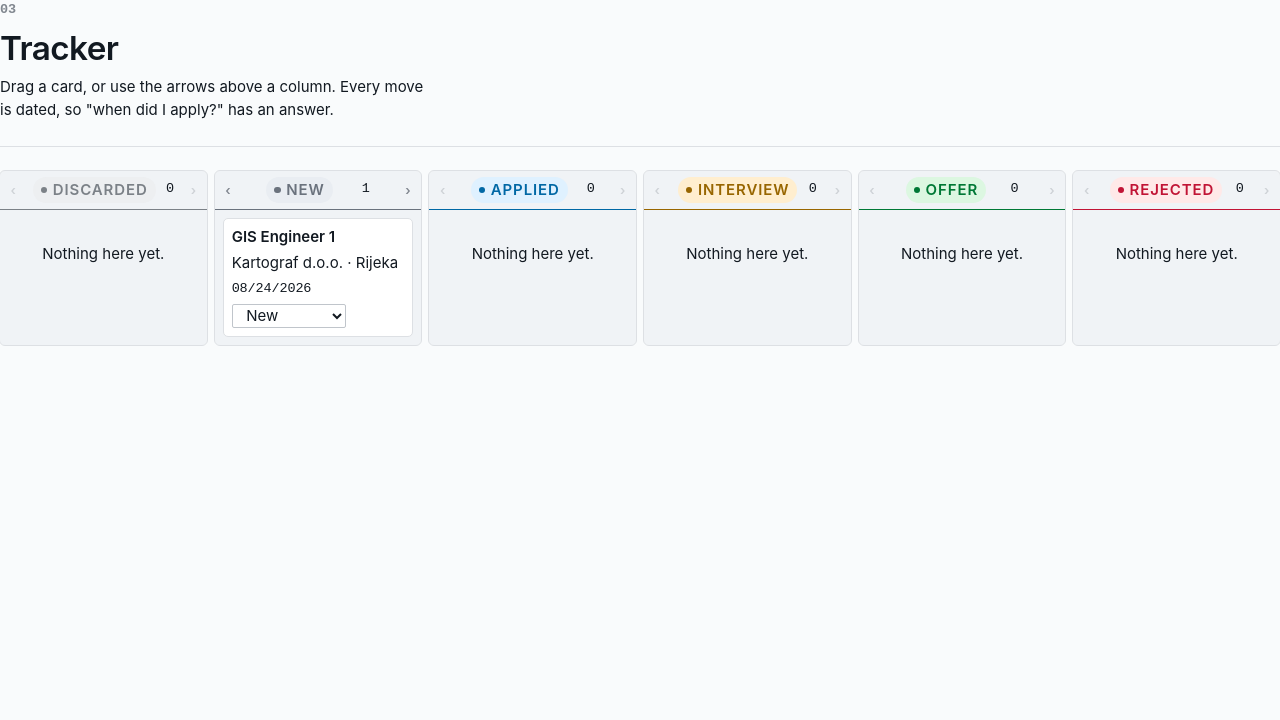
Scenario: the board › opens the details from anywhere on the card, not only the title
Expected: the button "GIS Engineer 1" is shown, [232, 227, 404, 247]
Click the text "Kartograf d.o.o. · Rijeka" at {"x": 318, "y": 263}, box [232, 252, 404, 275]
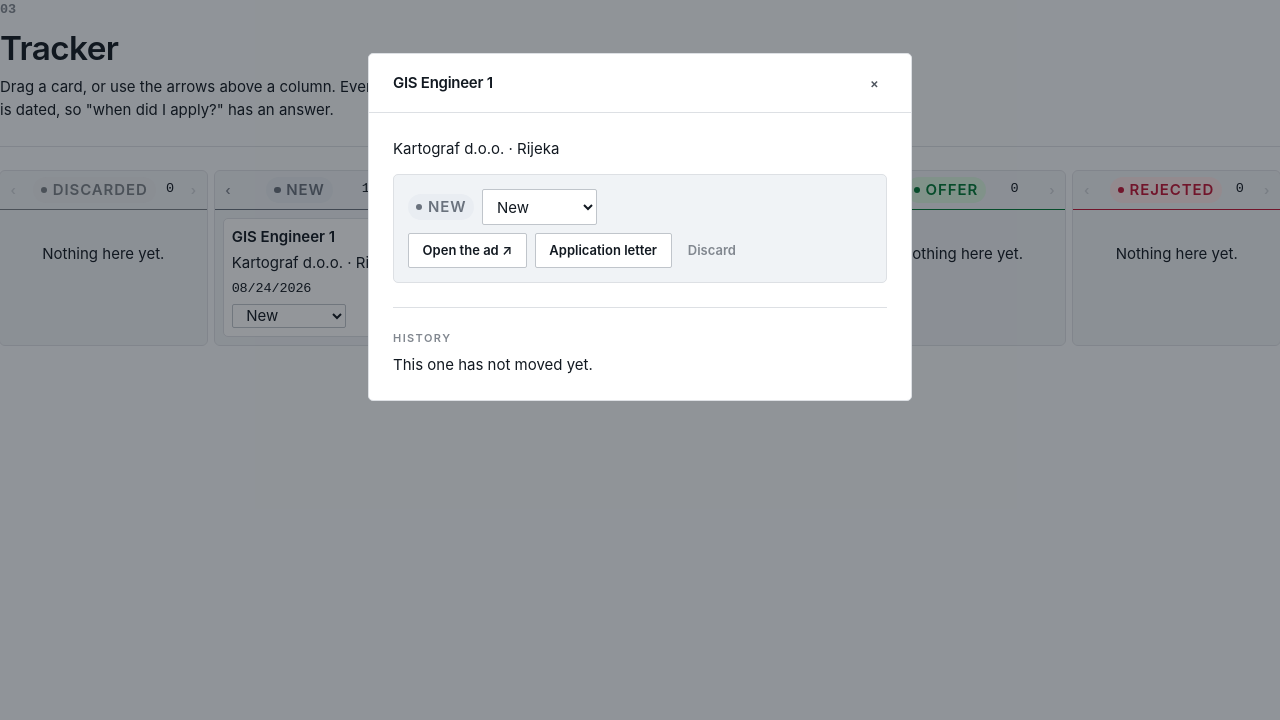
Expected: the dialog is shown, [368, 53, 912, 401]
